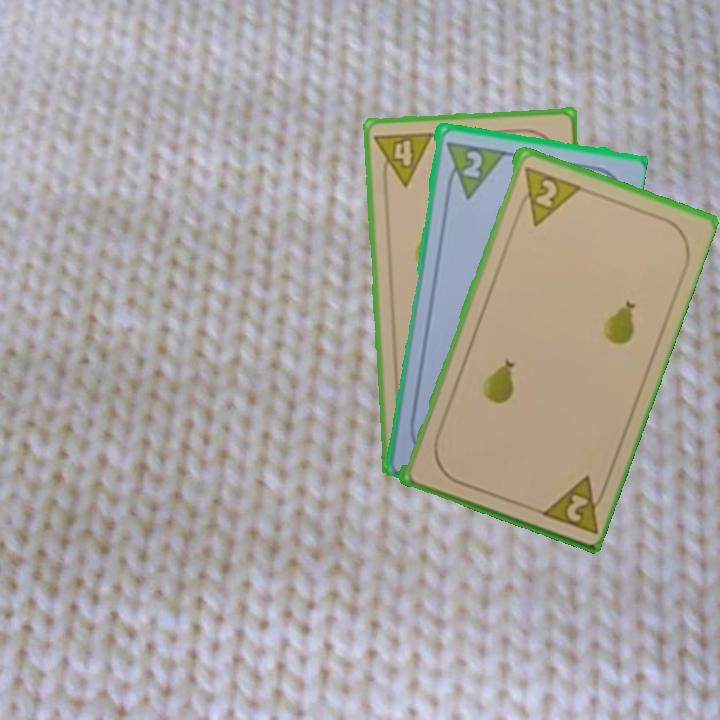2p: (534, 471, 610, 536), (513, 161, 581, 229), (442, 137, 506, 201)
4p: (371, 128, 436, 190)
